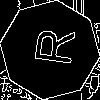R: (25, 25, 76, 67)
